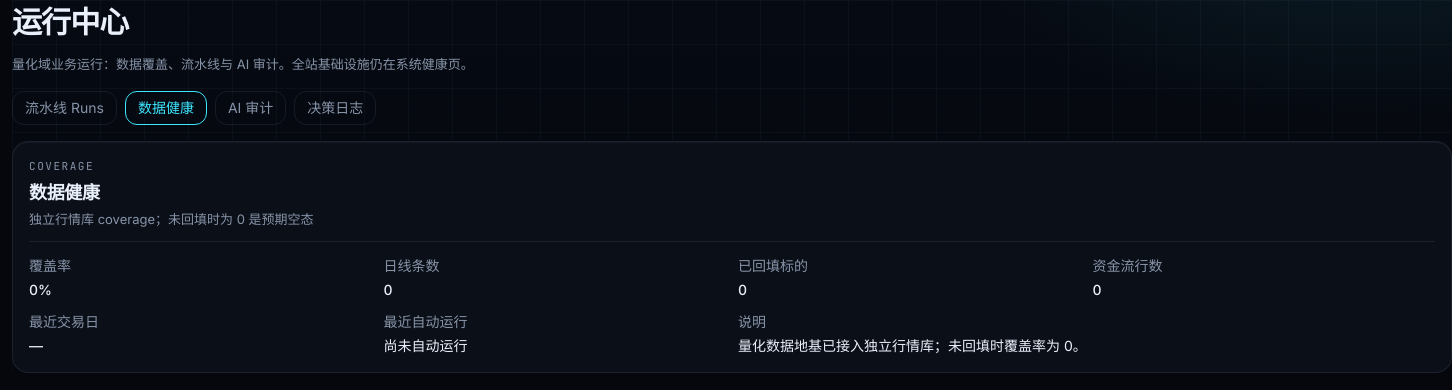
Scenario: DeskOpsView › renders the AI audit tab
Step 1. Click the button "AI 审计" → (251, 108), box [215,91,286,125]
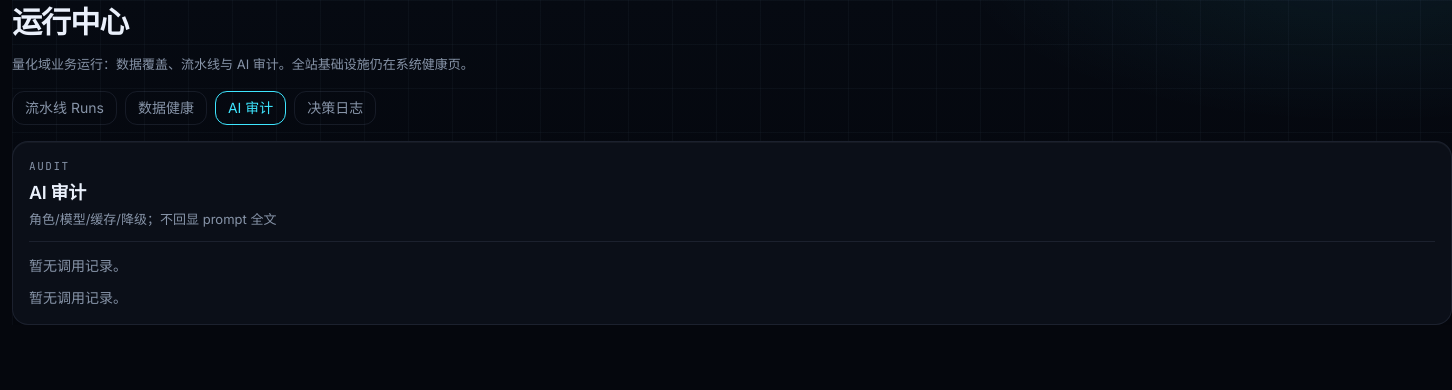
Check: the 2nd text "暂无调用记录。" is shown, box [29,290,127,306]
